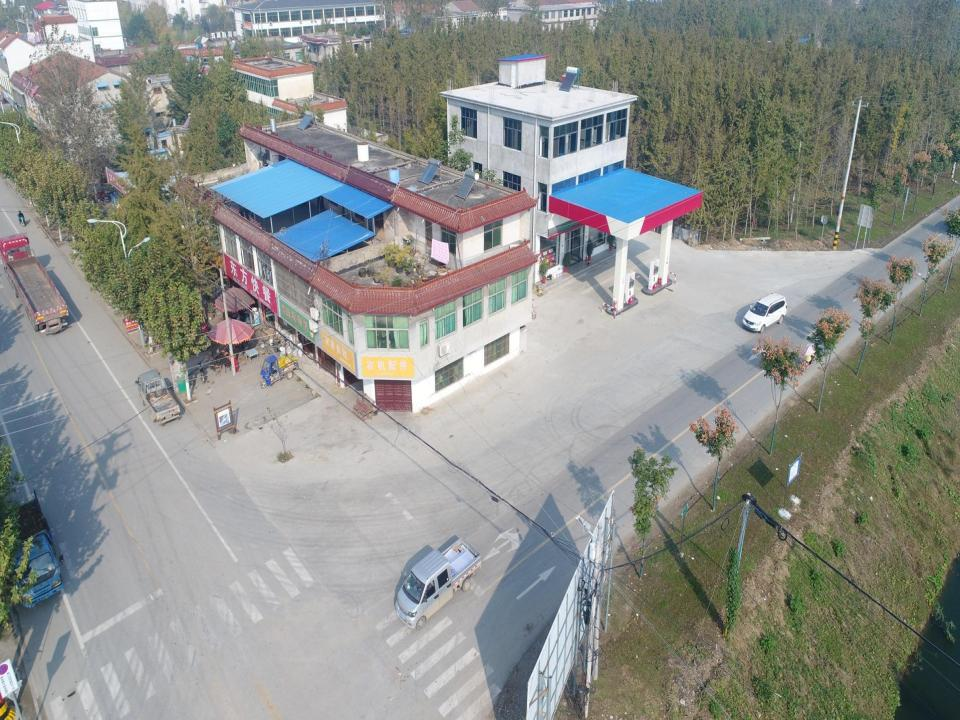car: (741, 292, 788, 334)
truck: (393, 533, 482, 631), (3, 491, 65, 611), (1, 234, 70, 334), (135, 370, 182, 424)
